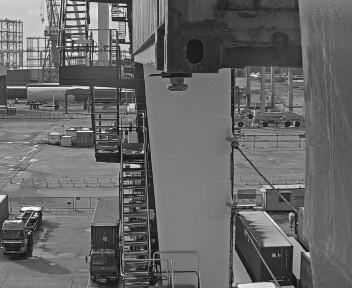twist_lock_1: (161, 66, 195, 97)
